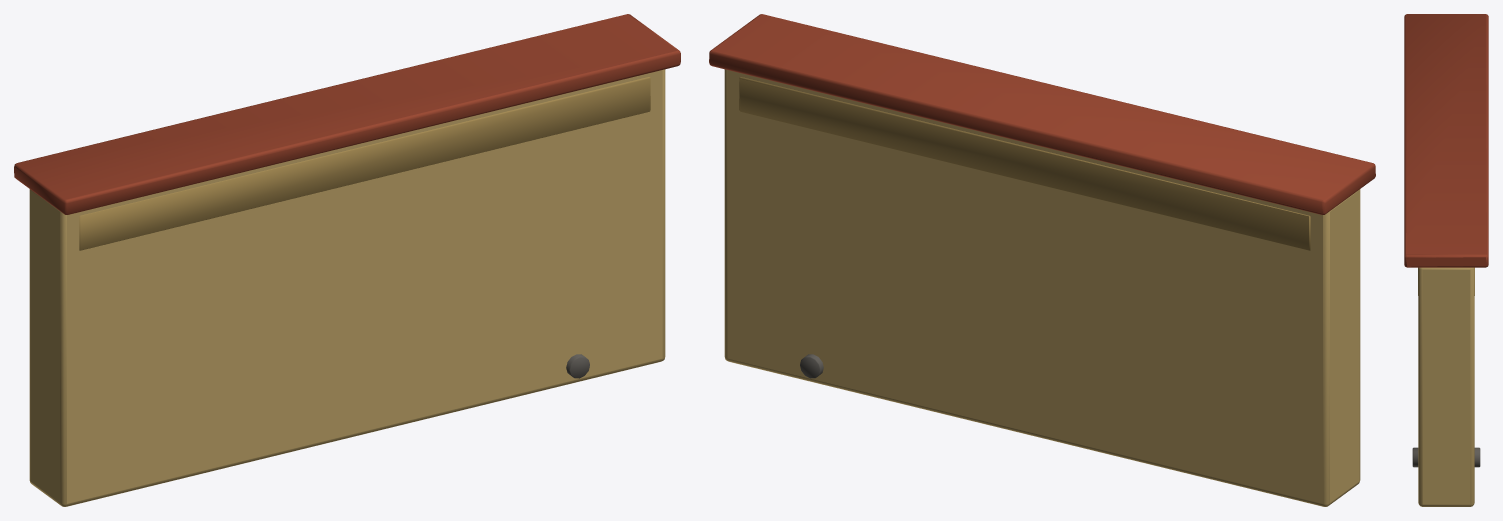
File: lan_can_mai.glb
The picture shows the model from 3 angles, left to right: view 1: azimuth 30°, elevation 25°; view 2: azimuth 150°, elevation 25°; view 3: azimuth 270°, elevation 25°; orthographic projection. The views are drawn at different scales.
Parts seen in each view (by area): view 1: lan_can_mai; view 2: lan_can_mai; view 3: lan_can_mai.
Part boxes in pixels (x1=…): lan_can_mai: x1=14, y1=14, x2=680, y2=506; lan_can_mai: x1=709, y1=14, x2=1375, y2=506; lan_can_mai: x1=1404, y1=14, x2=1488, y2=506.
Size of the model in its own units: 2.04 by 0.9995 by 0.2991.
